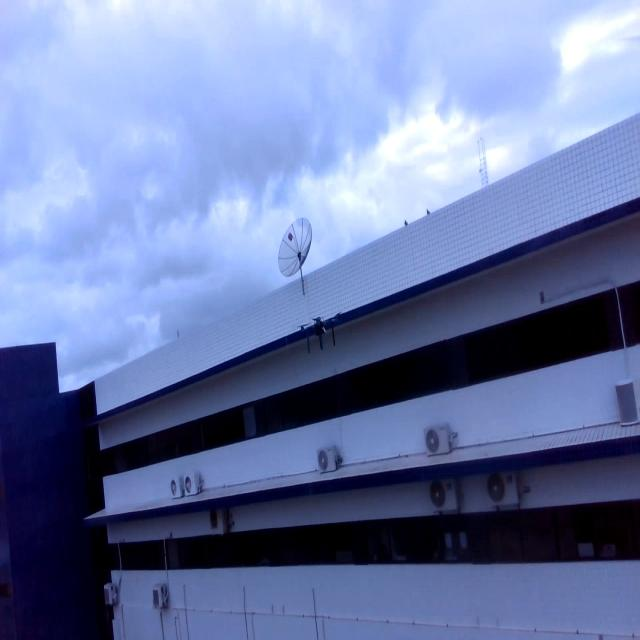-uav-: (292, 307, 355, 369)
